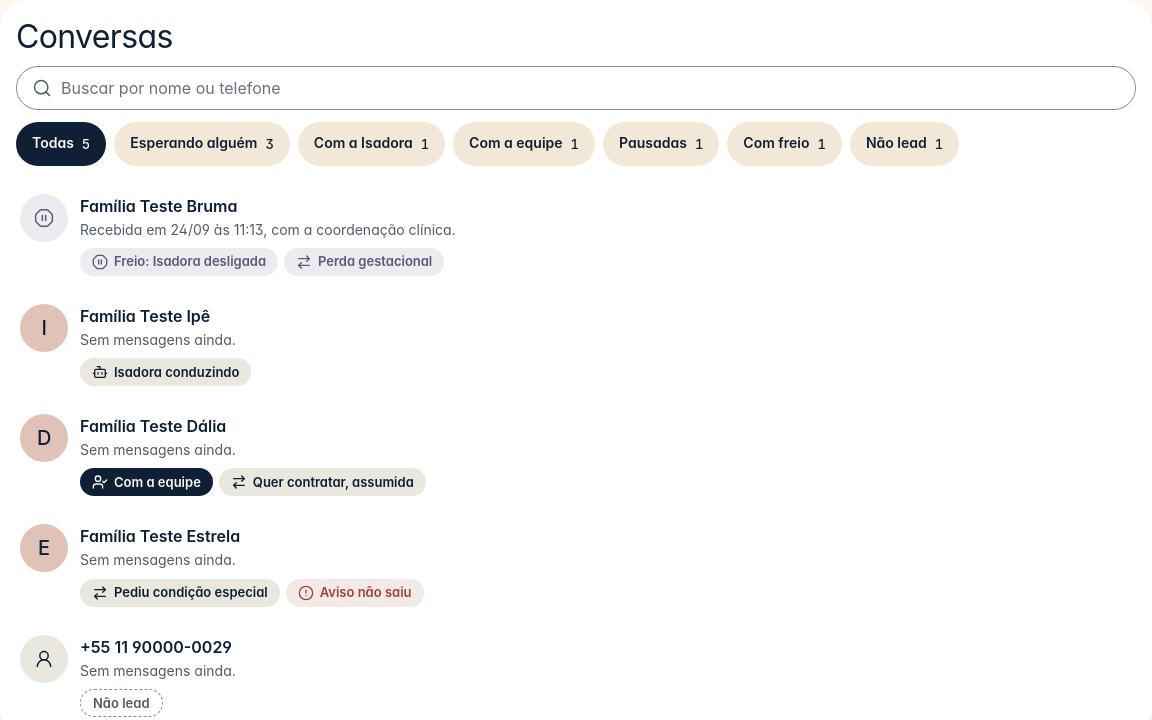
Scenario: ListaConversas com as transferências juntas (pedido do dono em 30/09) › busca por nome, sem acento, e pelos números do telefone
The image size is (1152, 720).
In the search field named "Buscar conversa por nome ou telefone": (576, 88) [16,66,1136,110], type "dalia"
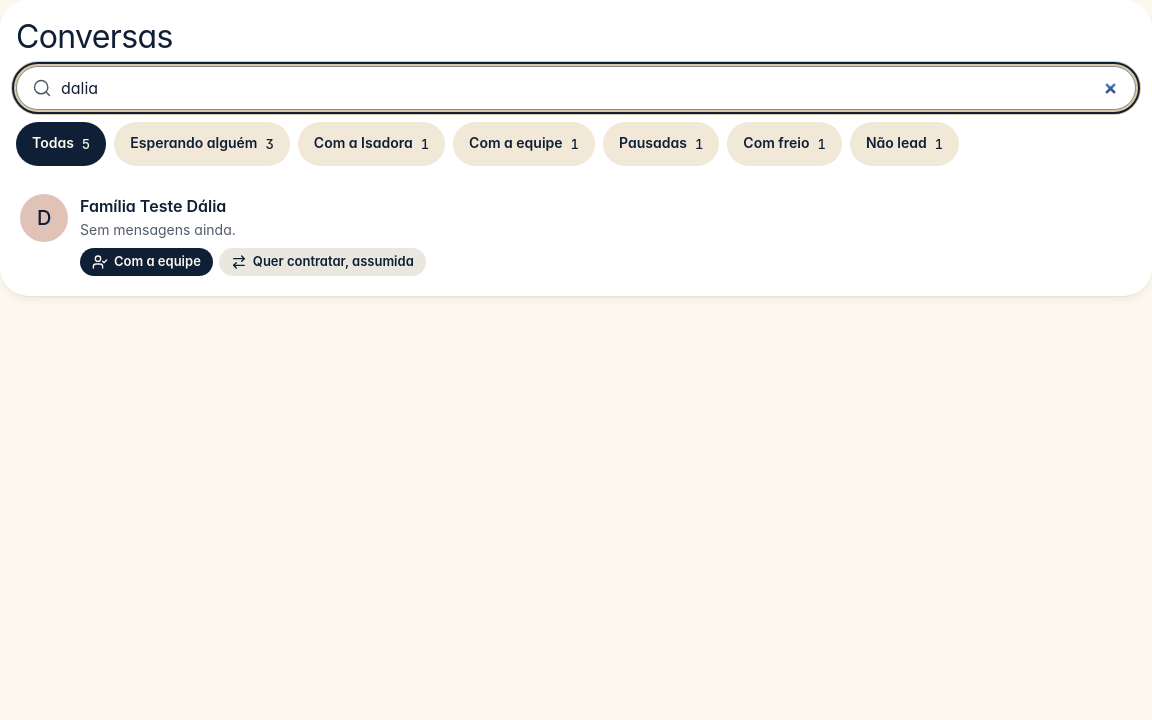
expect the text "Família Teste Dália" is shown: met, box [80,194,226,218]
expect the link "Família Teste Ipê" is gone: met
Replace the text in the search field named "Buscar conversa por nome ou telefone" with "0029": (576, 88) [16,66,1136,110]
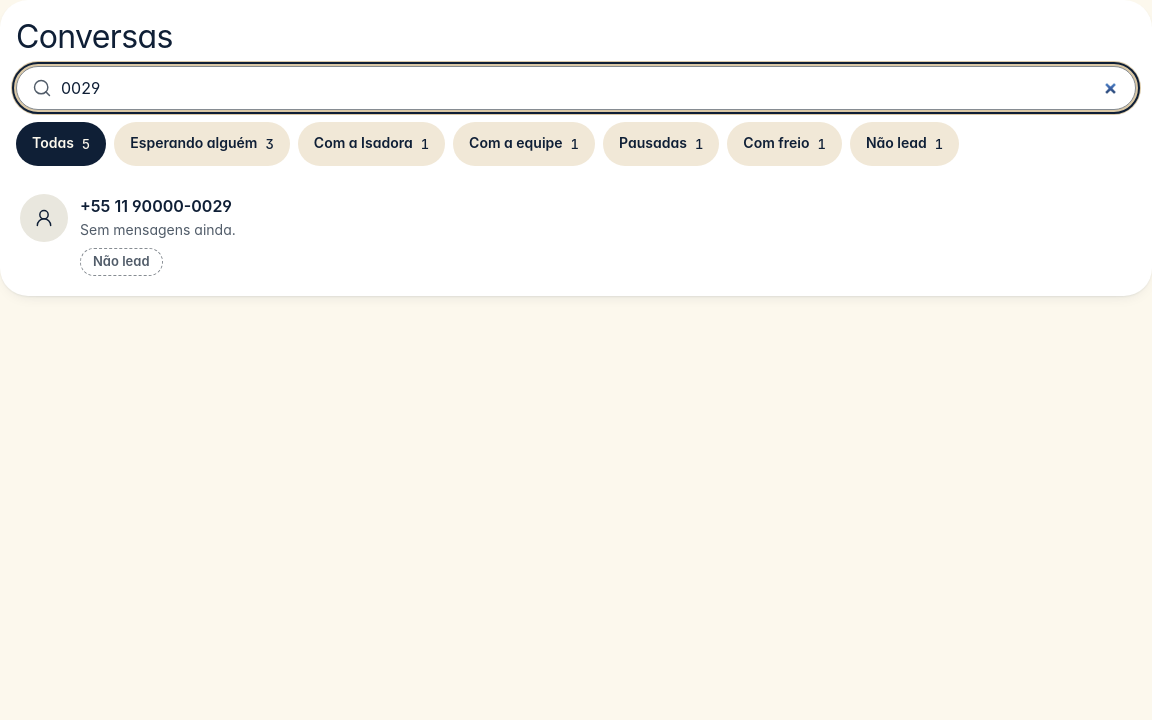
expect the link "Família Teste Dália" is not shown: met
expect the text "+55 11 90000-0029" is shown: met, box [80,194,232,218]
Replace the text in the search field named "Buscar conversa por nome ou telefone" with "ninguém assim": (576, 88) [16,66,1136,110]
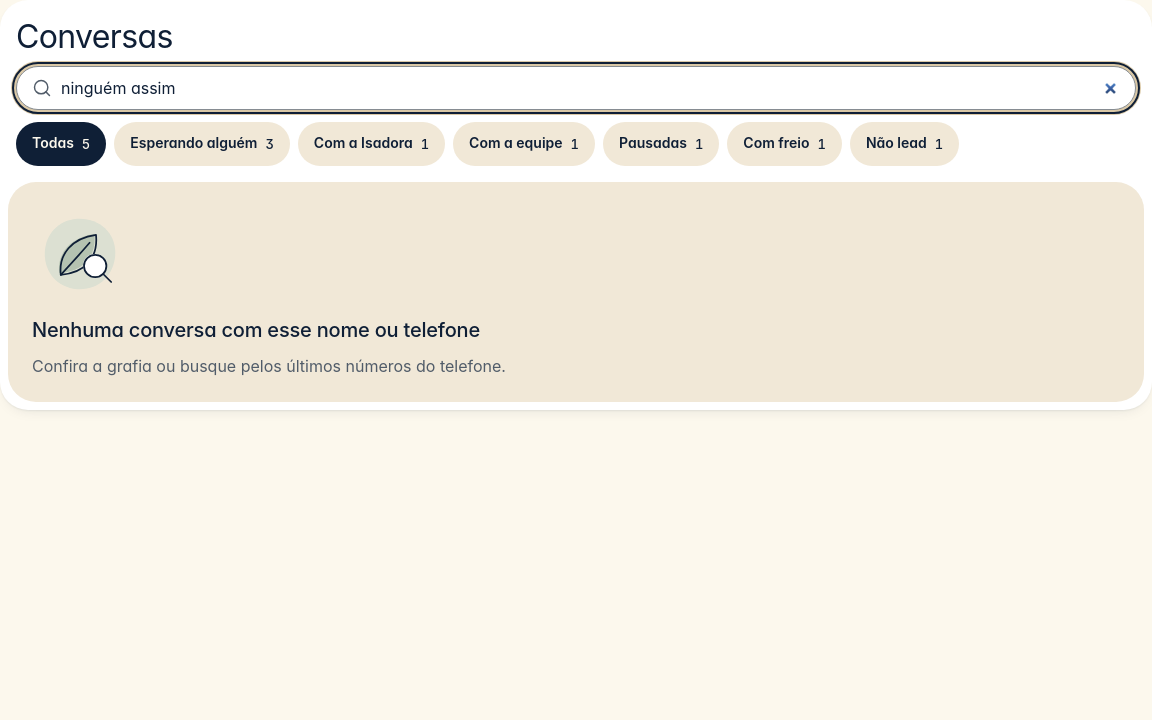
expect the heading "Nenhuma conversa com esse nome ou telefone" is shown: met, box [32,318,480,342]
